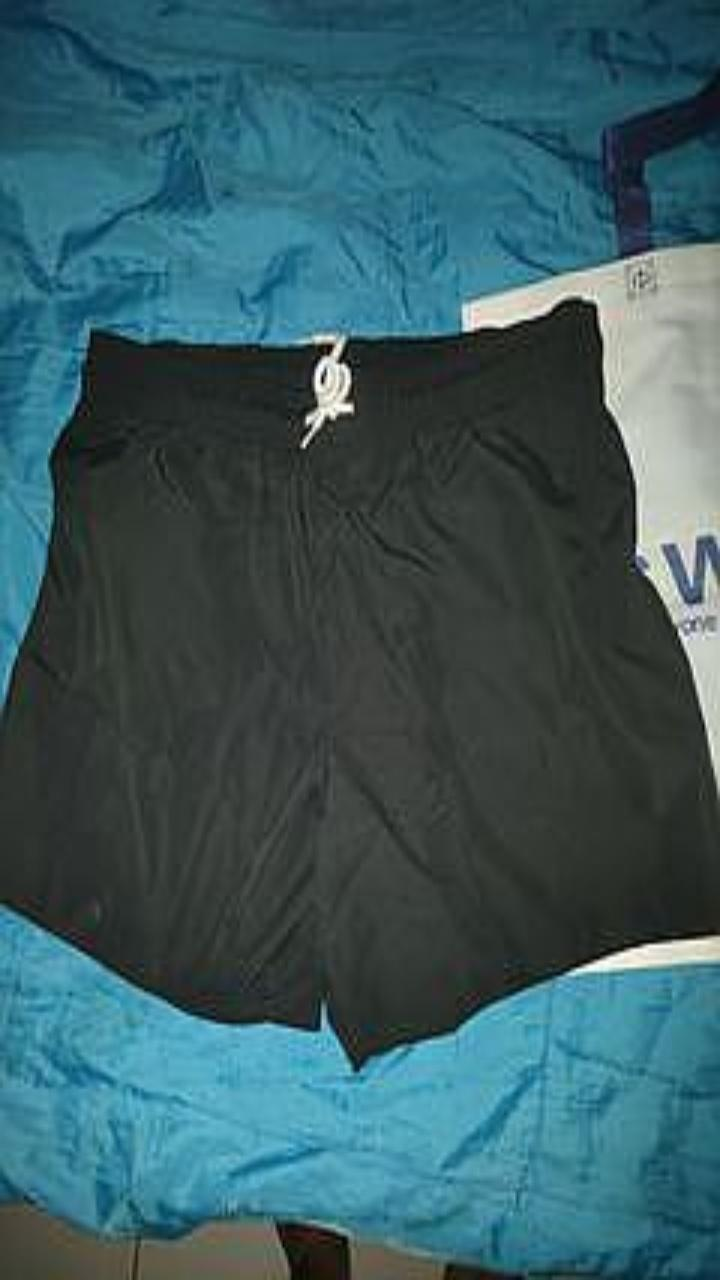Shorts: (0, 300, 719, 1064)
